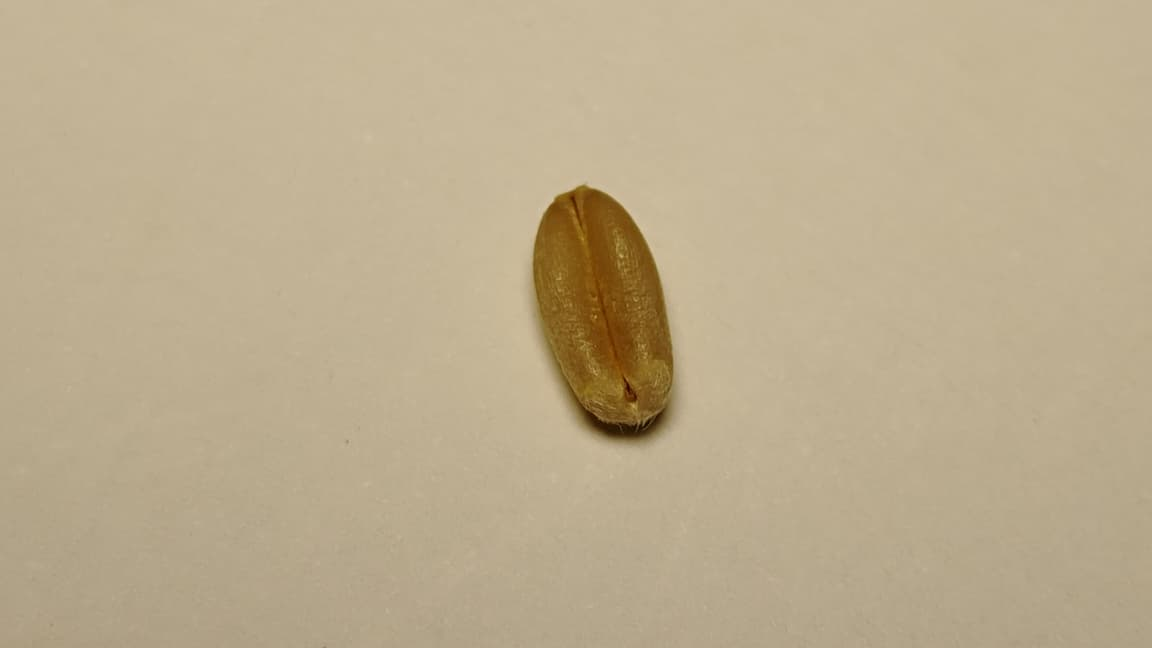healthy: (534, 186, 673, 427)
